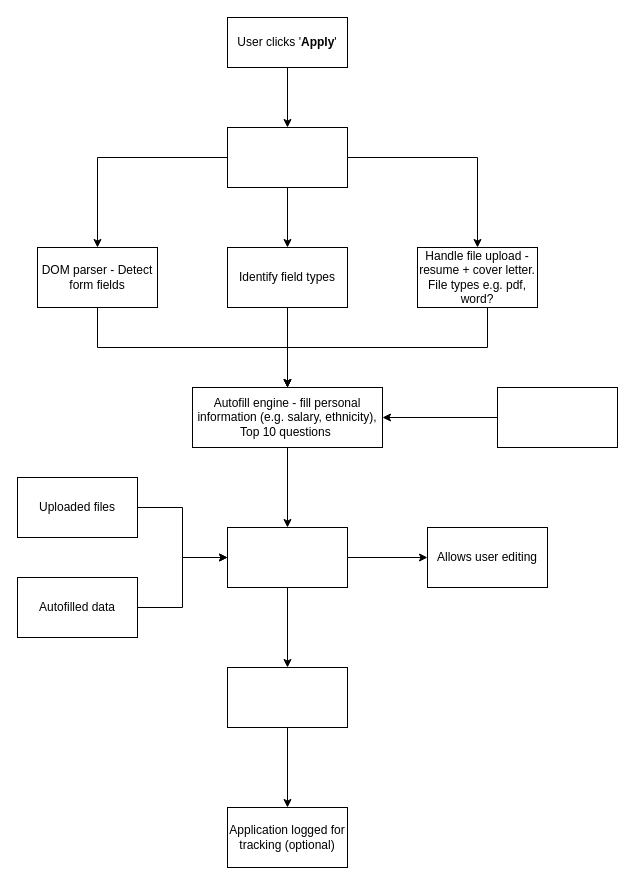
The diagram is 635 pixels wide and 885 high, and some of its shapes have lost their labels. Here are the shapes that lost their labels. From the top down, the centre of each, then its label:
At [287,157]: "JobGen.AI Chrome extension - Detect application forms".
At [557,417]: "Psychometric + scenario questions".
At [287,557]: "Display preview screen".
At [287,697]: "User clicks ' Apply/Submit '".
